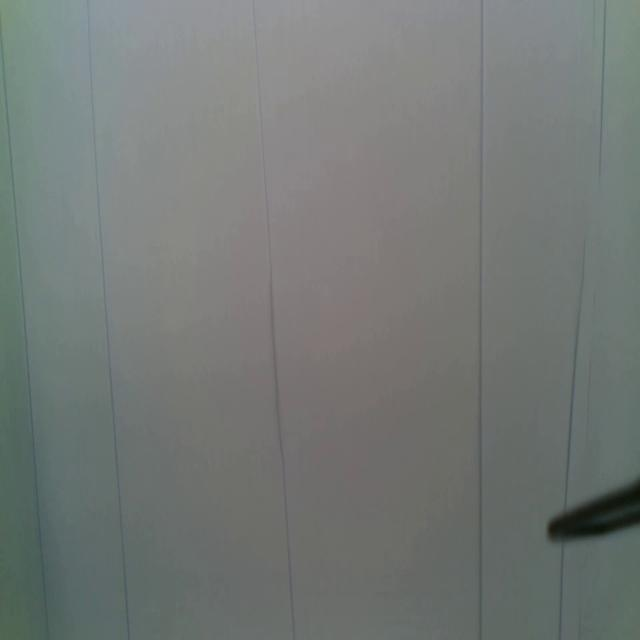crease: (0, 12, 49, 640), (86, 0, 131, 640), (252, 0, 296, 640), (562, 240, 588, 502), (477, 0, 487, 640), (598, 0, 608, 184), (557, 541, 567, 640)
